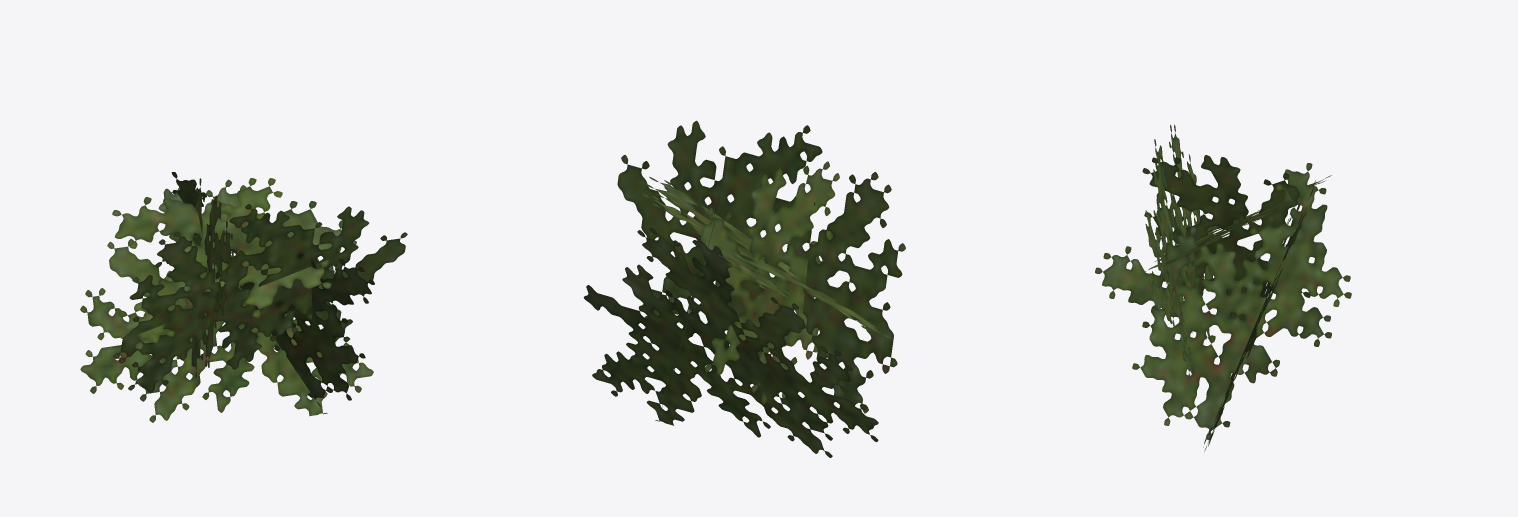
Rendered from pine_leaves_green_vertical_slab.obj.
The picture shows the model from 3 angles, left to right: view 1: azimuth 30°, elevation 25°; view 2: azimuth 150°, elevation 25°; view 3: azimuth 270°, elevation 25°; orthographic projection. The views are drawn at different scales.
Visible parts, largest first — view 1: plane; view 2: plane; view 3: plane.
Part boxes in pixels (box(x1,y1,x2,y2)): plane: box(80, 172, 407, 422); plane: box(583, 120, 905, 457); plane: box(1095, 124, 1351, 451).
Size of the model in its own units: 1.82 by 1.98 by 2.13.
